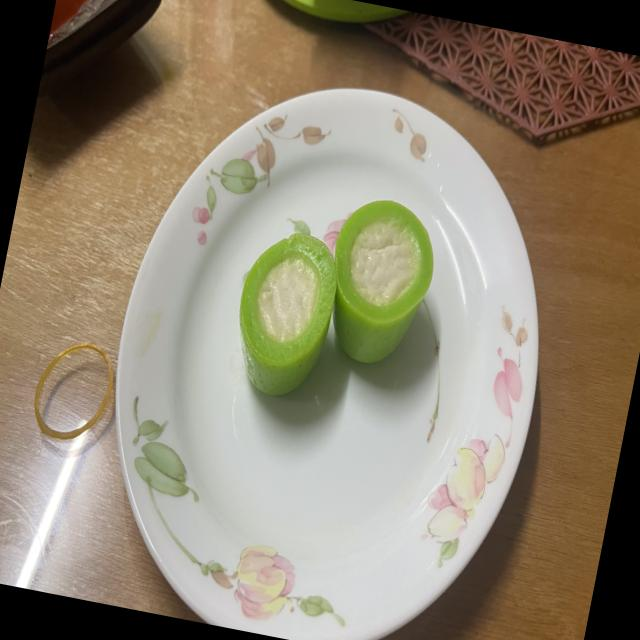nona-manis: (333, 200, 434, 364), (239, 233, 337, 396)
